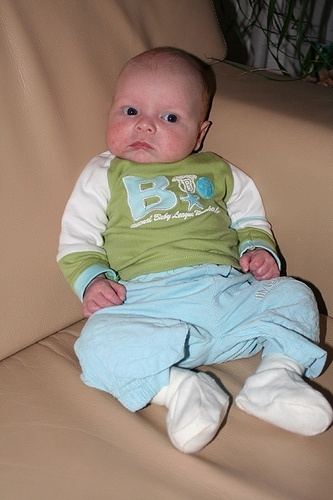head: (104, 45, 216, 165)
person: (66, 47, 327, 448)
